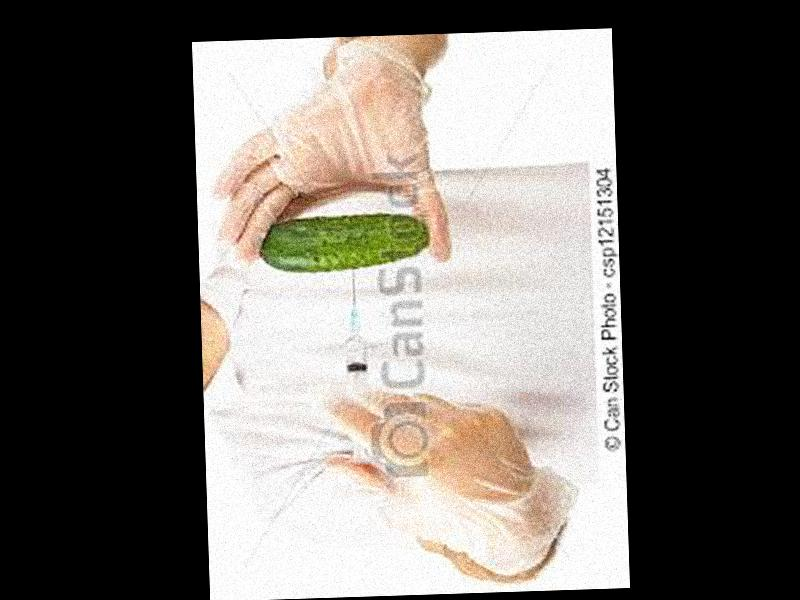Cucumber: (258, 210, 433, 271)
